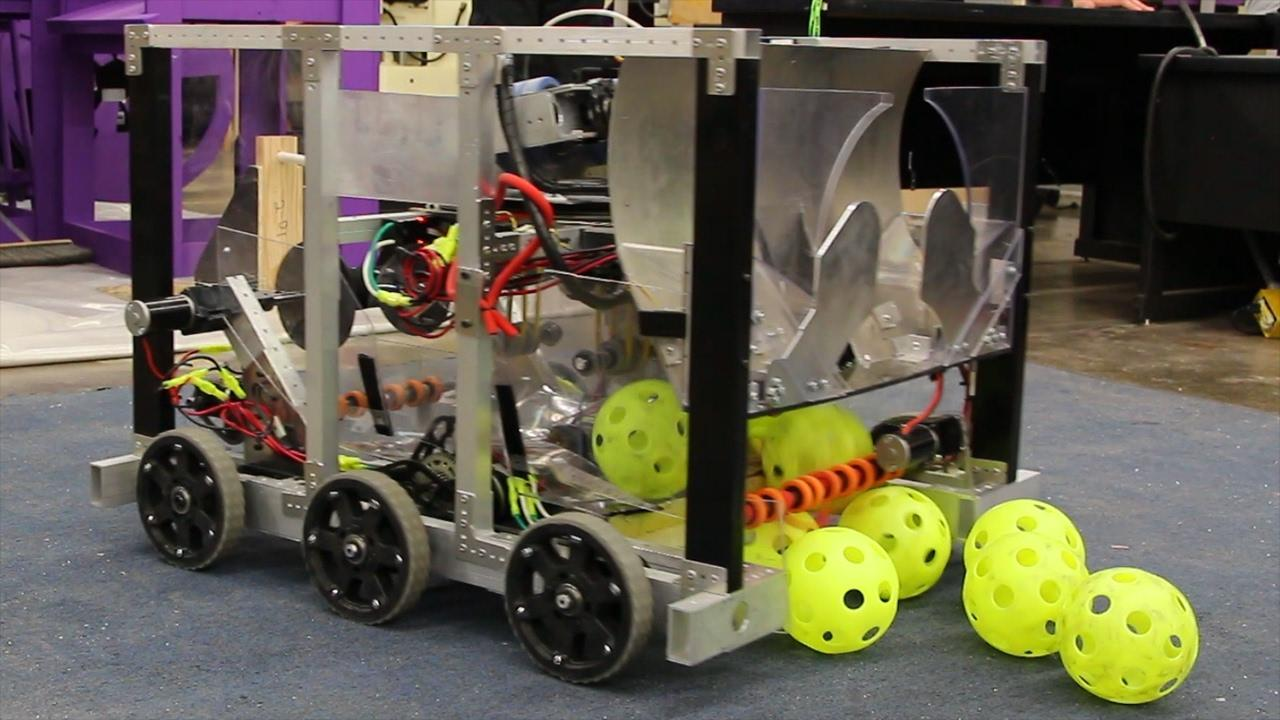robot: (83, 8, 1056, 706)
